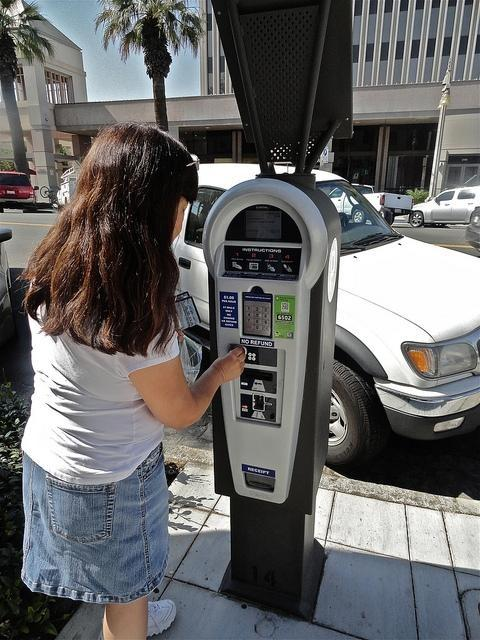car: (174, 159, 477, 472), (407, 185, 480, 228), (0, 171, 39, 205)
truck: (326, 182, 414, 227)
